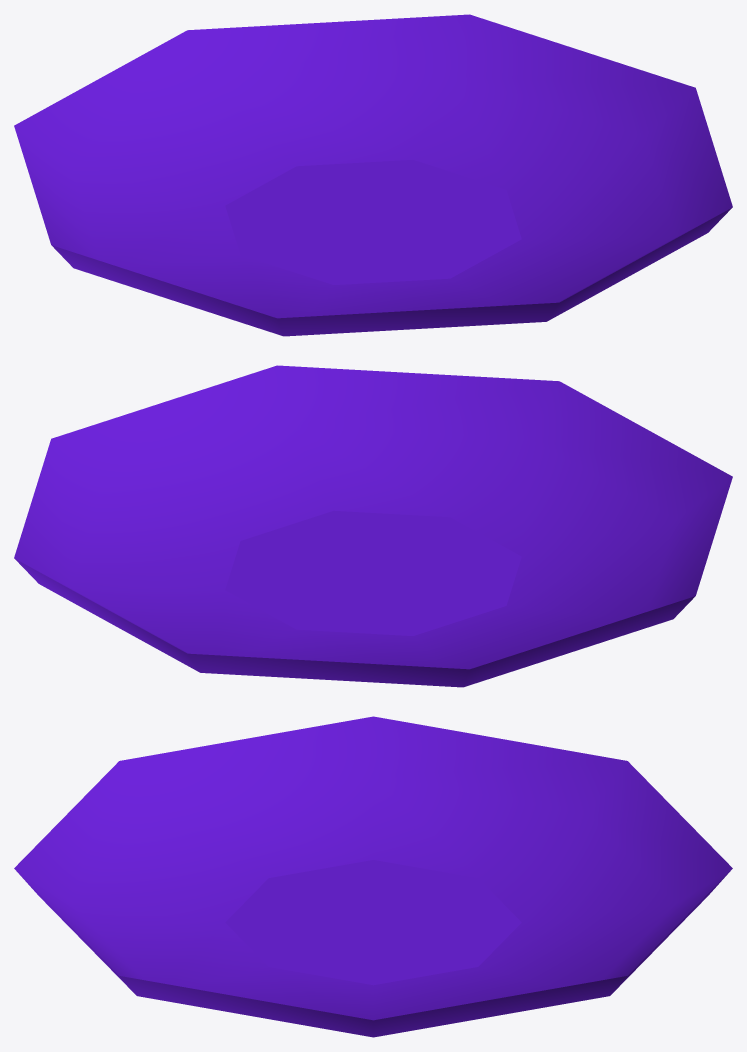
The model's file is Plate_F.FBX.
The picture shows the model from 3 angles, top to bottom: view 1: azimuth 30°, elevation 25°; view 2: azimuth 150°, elevation 25°; view 3: azimuth 270°, elevation 25°; orthographic projection. The views are drawn at different scales.
Parts seen in each view (by area): view 1: Bowl; view 2: Bowl; view 3: Bowl.
Boxes of the visible parts, box(x1,y1,x2,y2) form: Bowl: box(14, 14, 732, 336); Bowl: box(14, 365, 732, 687); Bowl: box(14, 716, 732, 1037).
Size of the model in its own units: 70.43 by 6.32 by 70.43.
